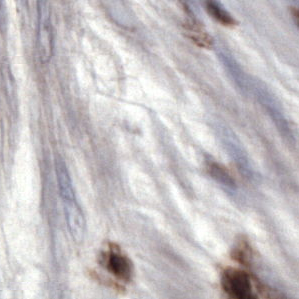Lymphocyte: (103, 246, 134, 284)
